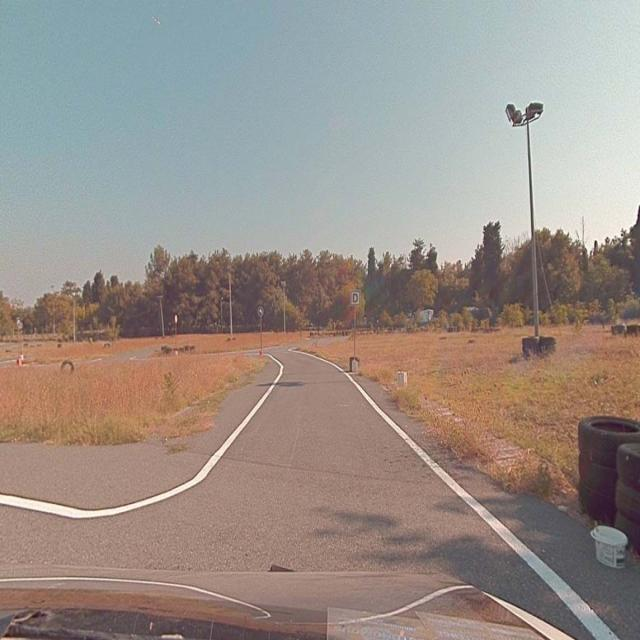durak: (350, 291, 360, 305)
sol: (258, 308, 264, 316)
